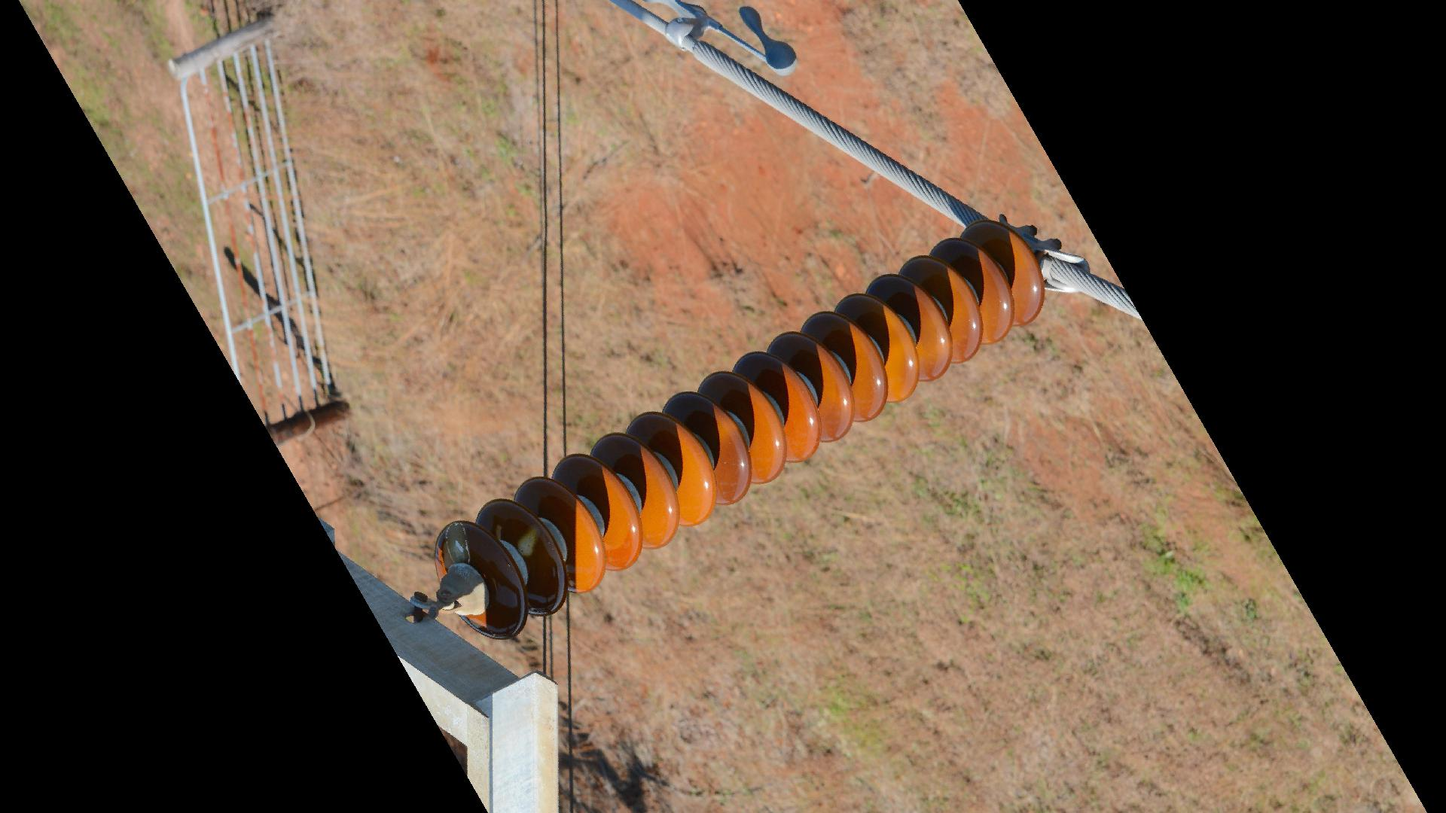insulator: (429, 216, 1056, 644)
insulator_flashover: (444, 519, 473, 566), (515, 525, 541, 558)
